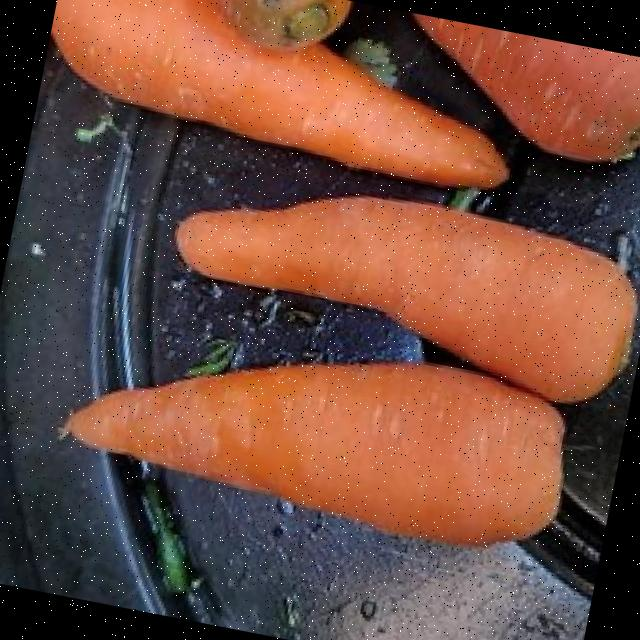carrot: (175, 195, 636, 402), (63, 363, 563, 546), (50, 0, 505, 186), (414, 13, 640, 160), (218, 0, 351, 49)
